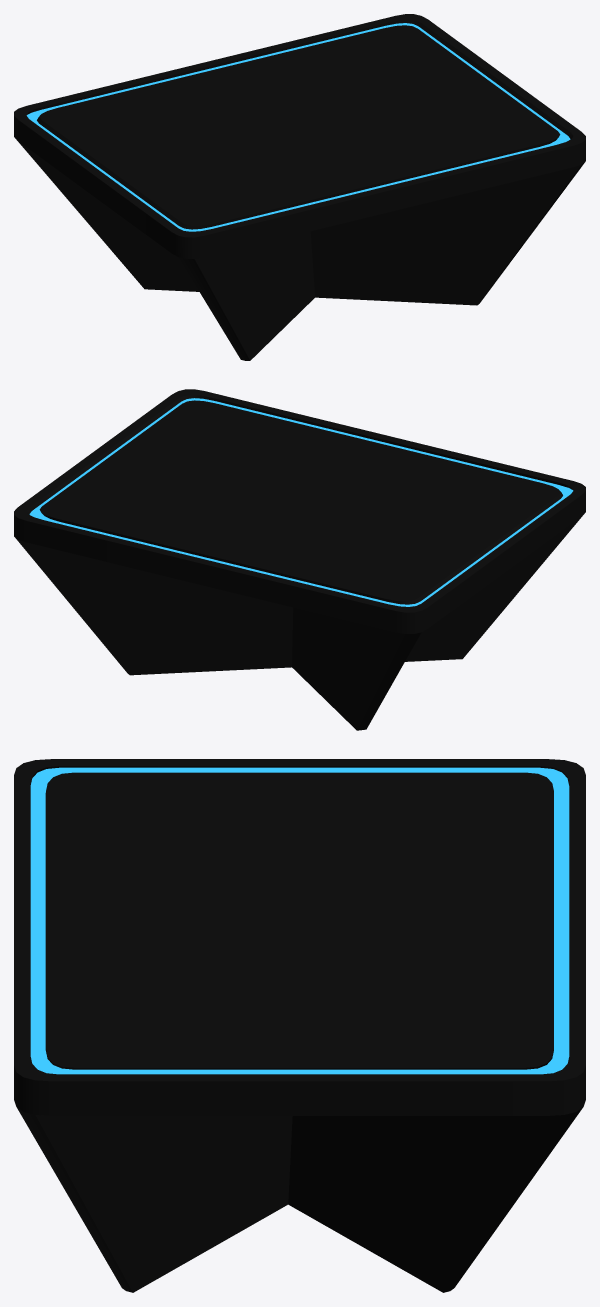
Rendered from table1.fbx.
3 views of the same model, one above another, from view 1: azimuth 30°, elevation 25°; view 2: azimuth 150°, elevation 25°; view 3: azimuth 270°, elevation 25° (orthographic). The views are drawn at different scales.
Visible parts, largest first — view 1: Box001; view 2: Box001; view 3: Box001.
Boxes of the visible parts, x1,y1,x2,y2 form: Box001: (14, 14, 585, 360); Box001: (14, 389, 585, 730); Box001: (14, 759, 585, 1292).
Size of the model in its own units: 78.74 by 31 by 59.06.
